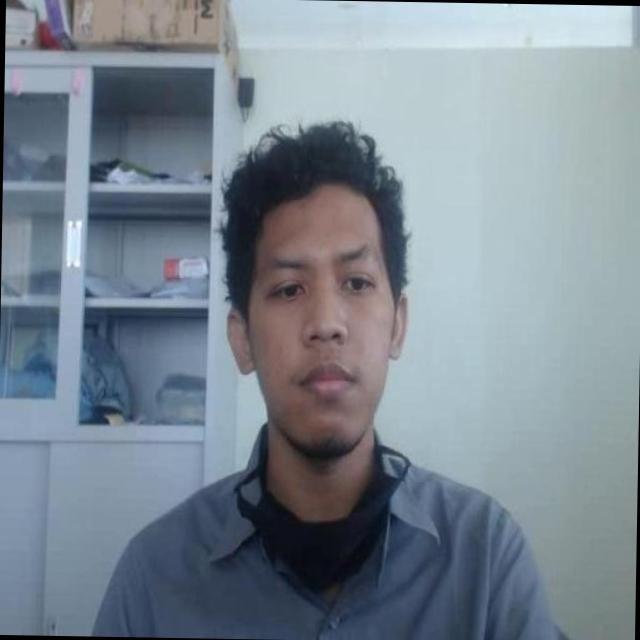bareface: (234, 193, 403, 457)
